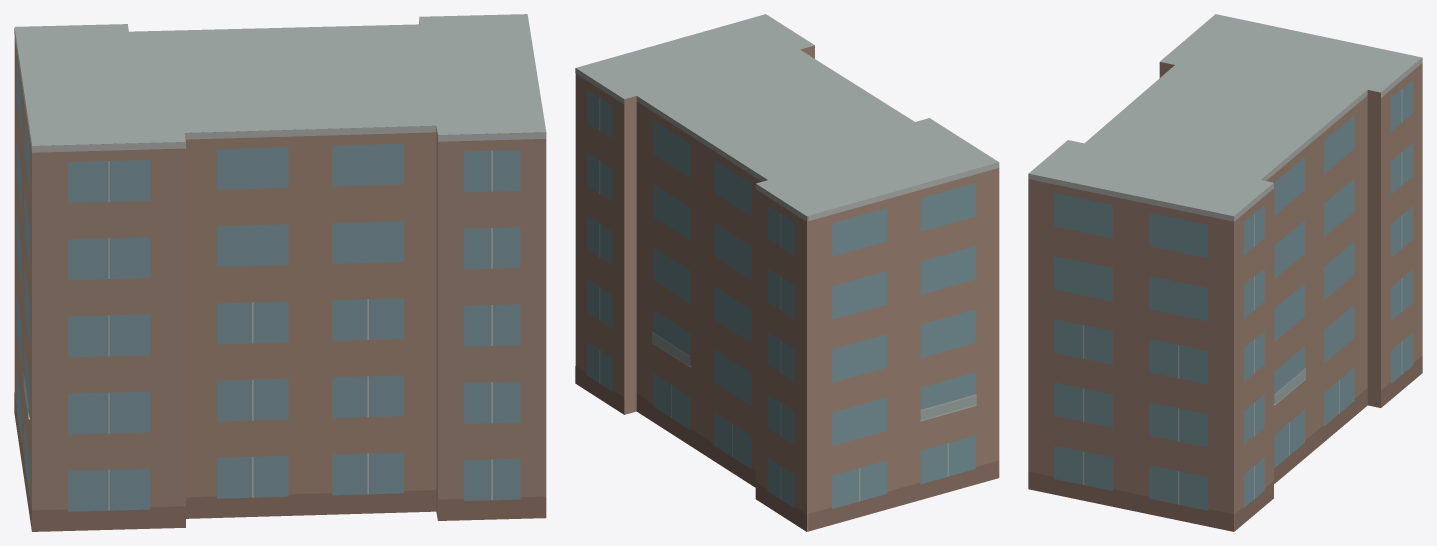
File: survey-upis-32845393.glb
3 renders of one model, left to right at view 1: azimuth 30°, elevation 25°; view 2: azimuth 150°, elevation 25°; view 3: azimuth 270°, elevation 25°, orthographic. The views are drawn at different scales.
Parts seen in each view (by area): view 1: survey-upis-32845393.tmp; view 2: survey-upis-32845393.tmp; view 3: survey-upis-32845393.tmp.
Part boxes in pixels (x1=…): survey-upis-32845393.tmp: x1=14, y1=14, x2=546, y2=531; survey-upis-32845393.tmp: x1=575, y1=14, x2=999, y2=531; survey-upis-32845393.tmp: x1=1028, y1=14, x2=1422, y2=531.
Bounding box in the file's own units: 19.39 × 14.1 × 15.96.
